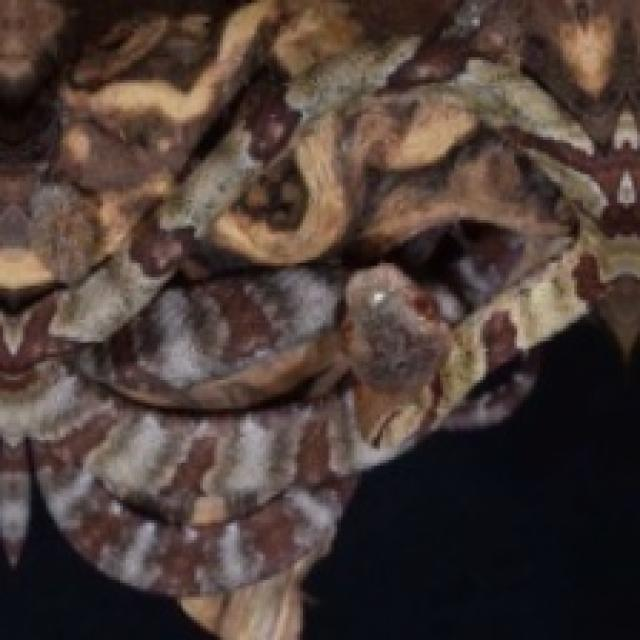philippine blunt-headed catsnake: (0, 0, 637, 637)
